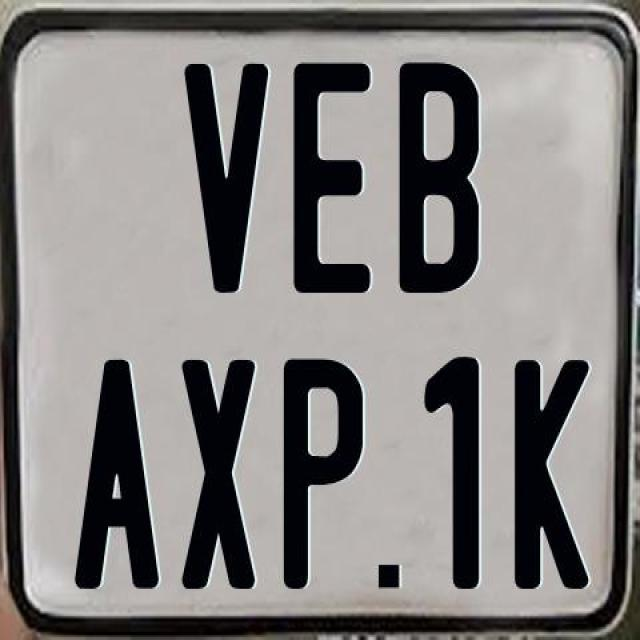1: (421, 356, 478, 596)
A: (72, 357, 163, 587)
B: (398, 59, 486, 293)
E: (293, 63, 372, 294)
K: (514, 356, 592, 594)
P: (283, 357, 367, 589)
V: (184, 64, 268, 293)
X: (182, 358, 258, 588)
